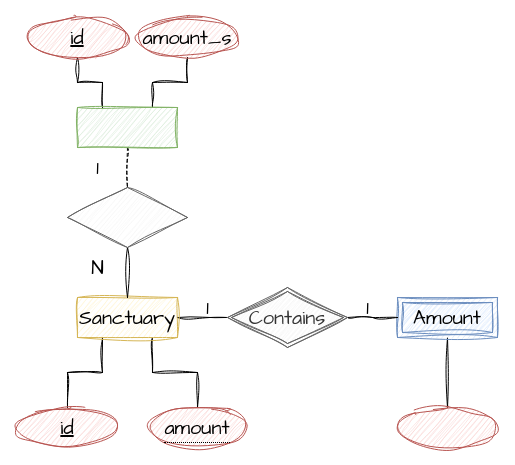
Image size: 515x465. Some labels were removed from this diagram. Here are the shapes that lost their labels. From the top down, the centre of each, then its label:
(127,127): Country
(127,217): Located
(447,427): unities
